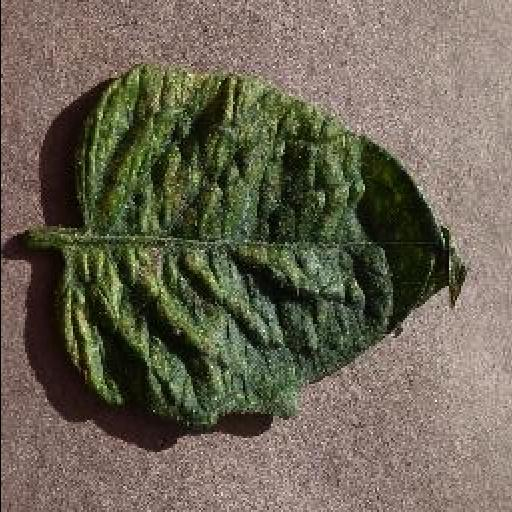disease_tomato: (60, 70, 466, 428)
